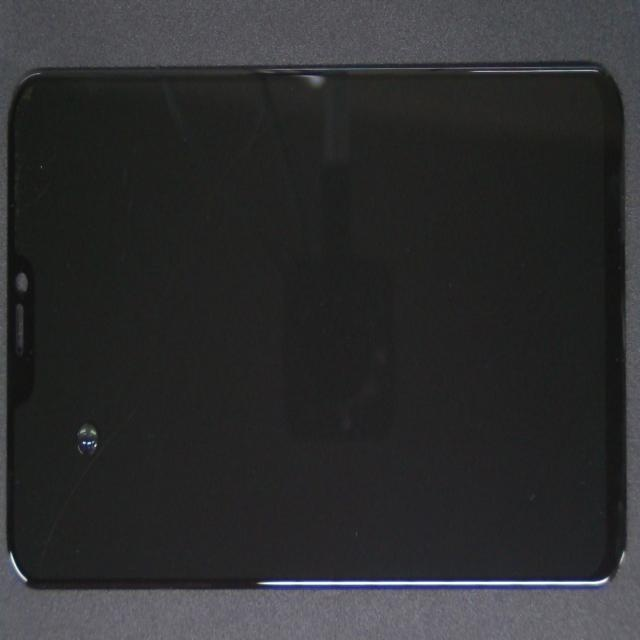oil: (61, 217, 148, 632)
